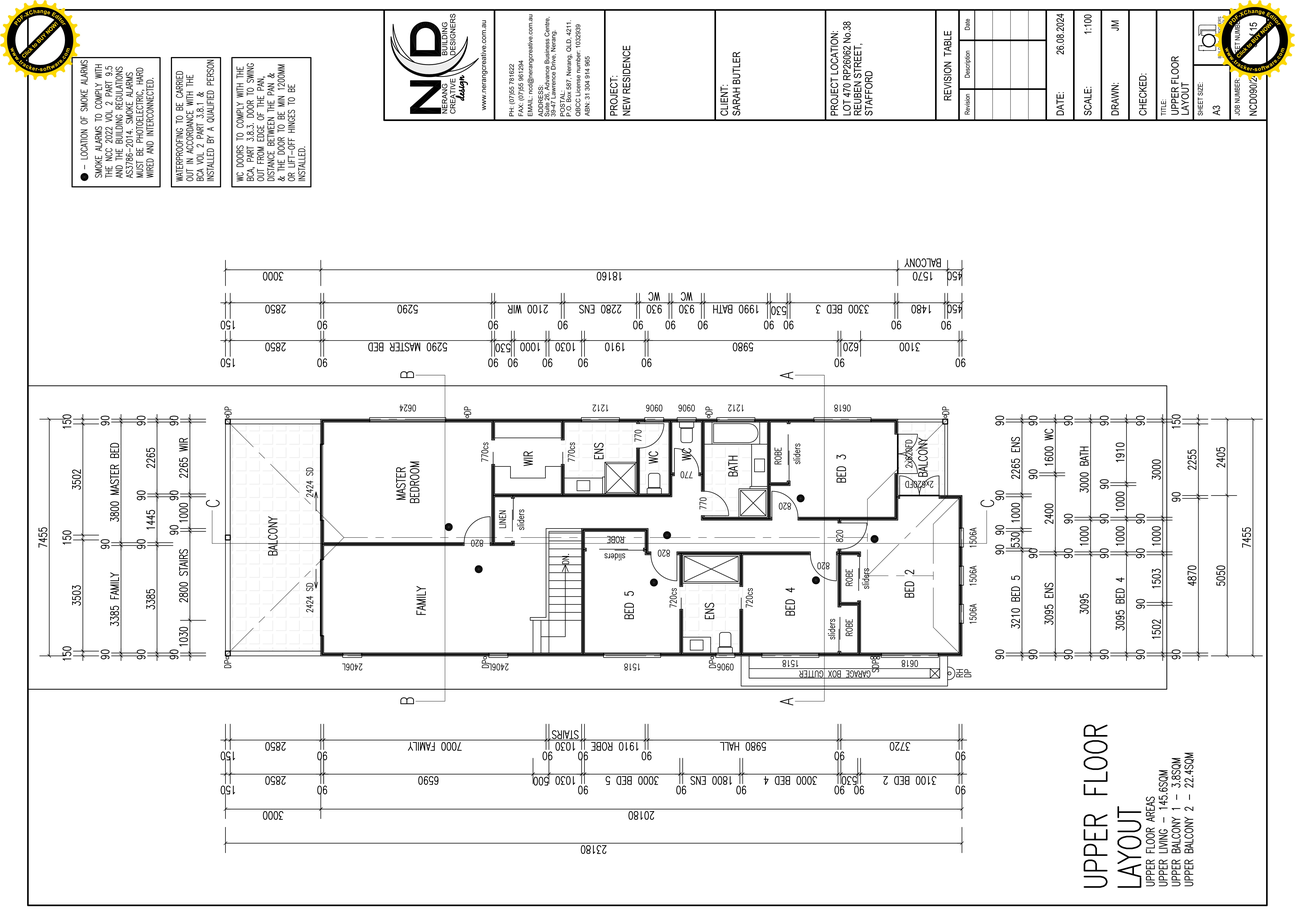wall: (322, 652, 960, 657), (322, 418, 896, 423), (320, 421, 325, 654), (646, 551, 859, 556), (703, 516, 896, 521), (493, 493, 670, 498), (322, 542, 513, 546), (837, 519, 842, 654), (958, 497, 962, 654), (581, 530, 586, 654), (491, 421, 496, 544), (679, 553, 684, 654), (547, 528, 646, 533), (894, 421, 899, 519), (701, 421, 706, 519), (545, 530, 550, 619), (739, 553, 743, 654), (857, 553, 861, 653), (767, 421, 771, 519), (668, 421, 673, 496), (786, 421, 791, 484), (636, 421, 640, 496), (561, 421, 565, 496), (896, 495, 960, 499), (511, 496, 515, 544), (670, 472, 703, 477), (644, 530, 649, 553), (839, 602, 859, 607), (769, 482, 788, 487), (531, 617, 547, 621)
